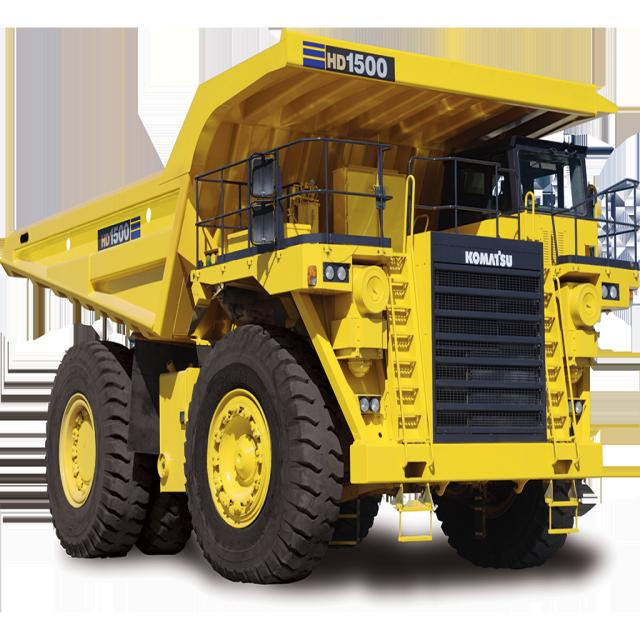dump_truck: (2, 25, 638, 583)
